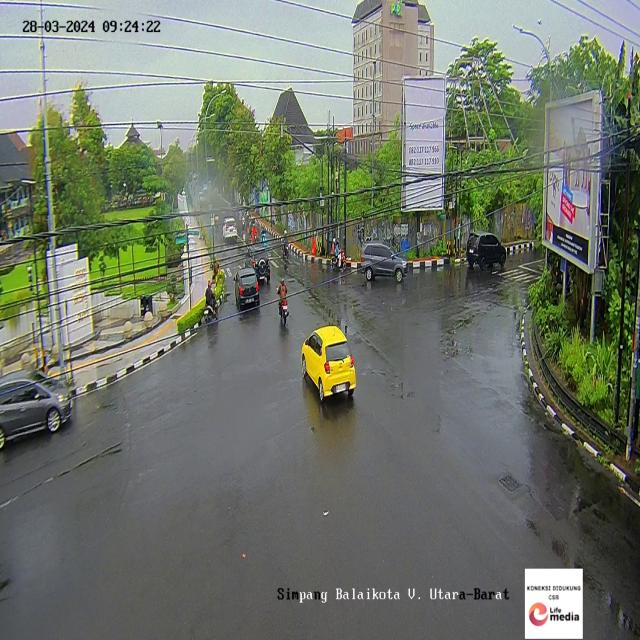car: (2, 377, 72, 456), (300, 326, 356, 402), (356, 248, 409, 281), (468, 234, 507, 271), (234, 270, 260, 311), (246, 245, 270, 282), (223, 215, 237, 242)
motorcycle: (330, 235, 347, 276), (204, 277, 217, 326), (278, 276, 288, 330), (282, 229, 290, 257), (260, 222, 267, 248), (251, 223, 258, 246)
